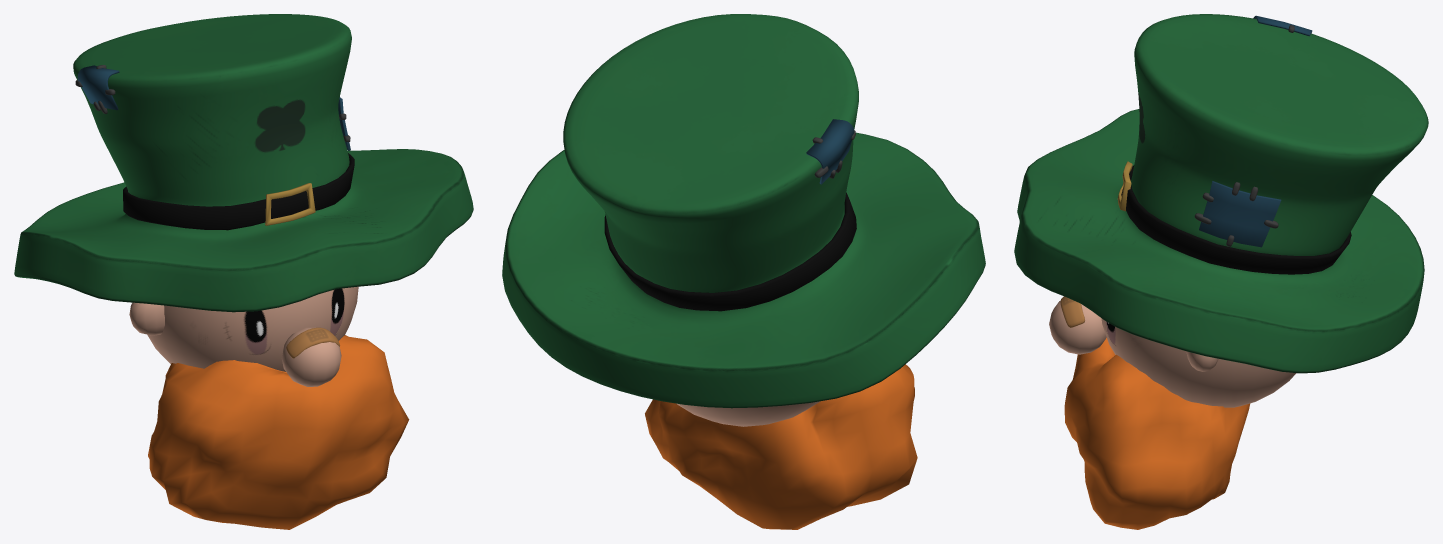
Rendered from Leprechaun ONE OBJECT.fbx.
The picture shows the model from 3 angles, left to right: view 1: azimuth 30°, elevation 25°; view 2: azimuth 150°, elevation 25°; view 3: azimuth 270°, elevation 25°; orthographic projection. The views are drawn at different scales.
Parts seen in each view (by area): view 1: Cube; view 2: Cube; view 3: Cube.
Boxes of the visible parts, bbox=[...] form: Cube: bbox=[14, 14, 473, 529]; Cube: bbox=[502, 14, 985, 529]; Cube: bbox=[1014, 14, 1428, 529].
Size of the model in its own units: 247 by 266 by 213.
1 material, 1 textured.
